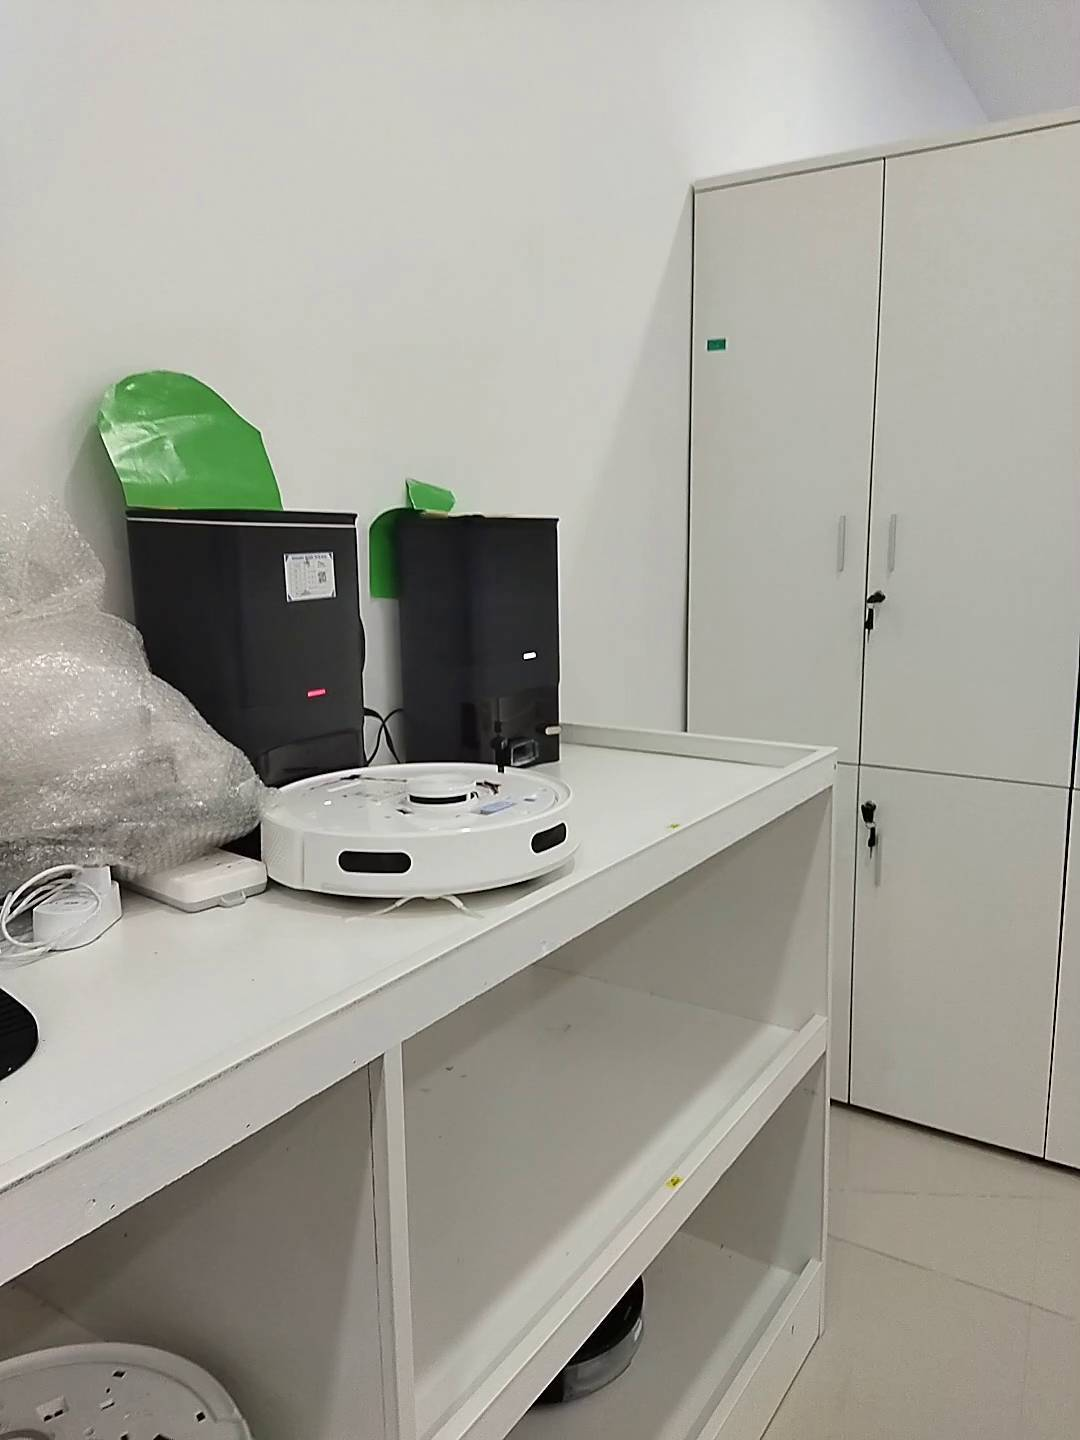dust collecting barrel: (123, 508, 365, 790), (400, 515, 564, 771)
